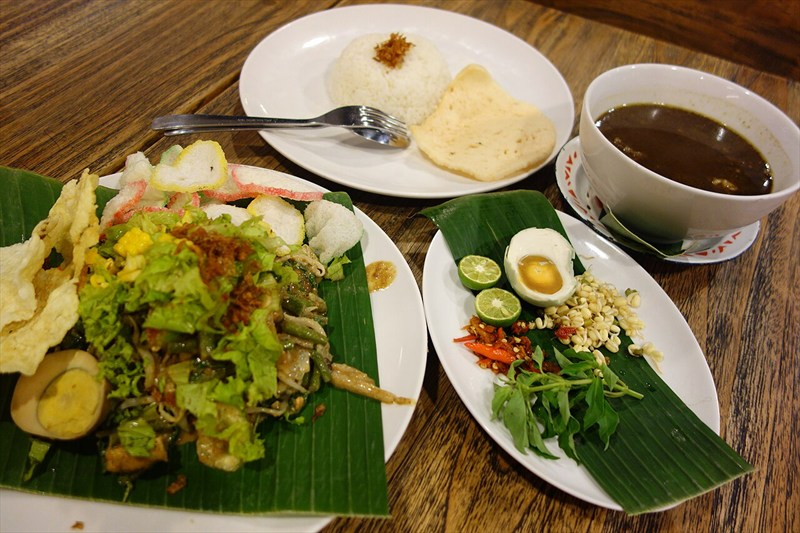Gado-Gado: (62, 75, 643, 454)
